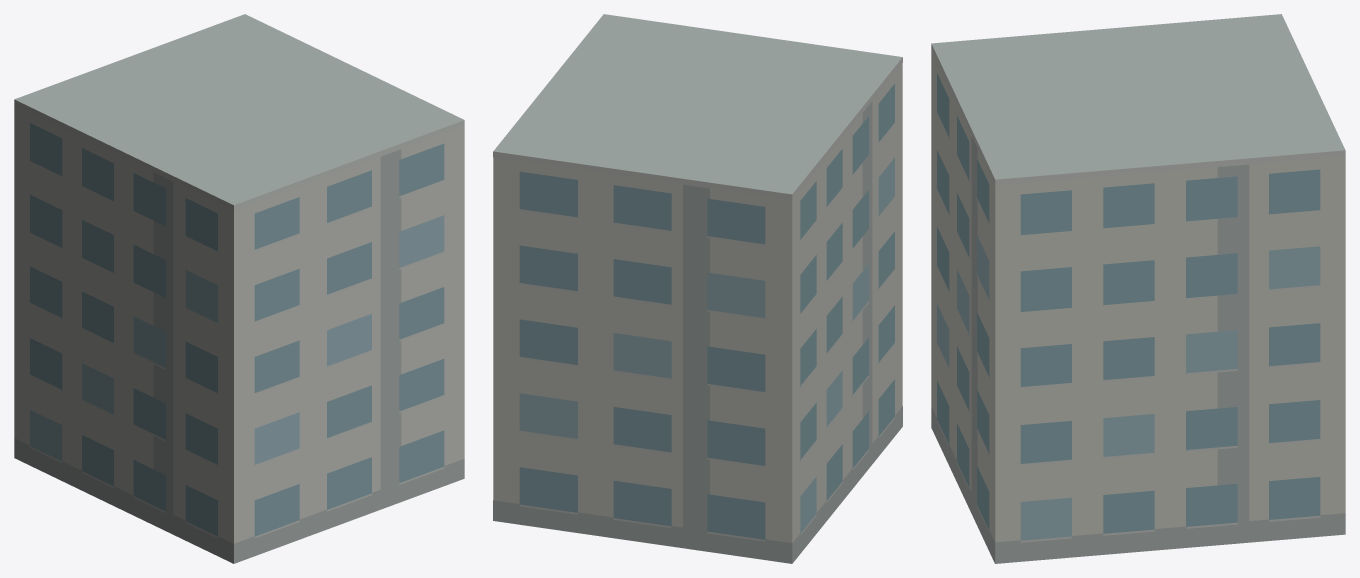
Rendered from residential-aa1df51e-3ded-491b-80d0-3edbf0c2db4d.glb.
The picture shows the model from 3 angles, left to right: view 1: azimuth 30°, elevation 25°; view 2: azimuth 150°, elevation 25°; view 3: azimuth 270°, elevation 25°; orthographic projection. The views are drawn at different scales.
Visible parts, largest first — view 1: residential-aa1df51e-3ded-491b-80d0-3edbf0c2db4d.tmp; view 2: residential-aa1df51e-3ded-491b-80d0-3edbf0c2db4d.tmp; view 3: residential-aa1df51e-3ded-491b-80d0-3edbf0c2db4d.tmp.
Boxes of the visible parts, bbox=[...] form: residential-aa1df51e-3ded-491b-80d0-3edbf0c2db4d.tmp: bbox=[14, 14, 464, 563]; residential-aa1df51e-3ded-491b-80d0-3edbf0c2db4d.tmp: bbox=[493, 14, 902, 563]; residential-aa1df51e-3ded-491b-80d0-3edbf0c2db4d.tmp: bbox=[931, 14, 1345, 563].
Size of the model in its own units: 14.11 by 15.25 by 14.91.
